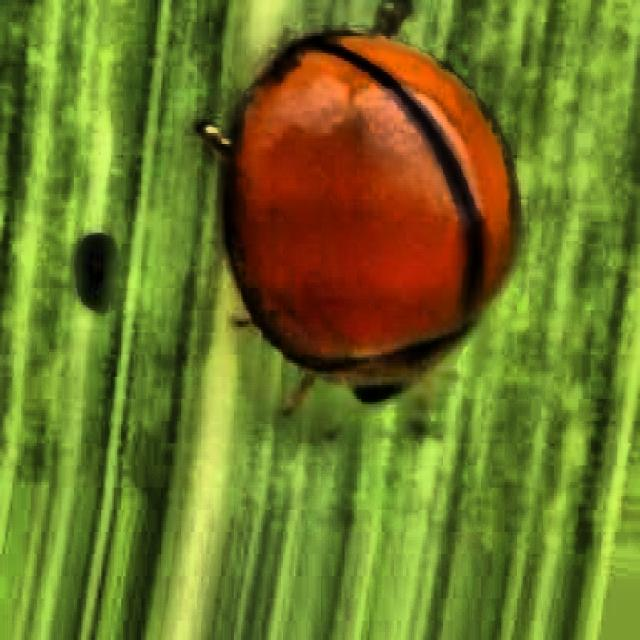Ladybug: (147, 2, 576, 477)
